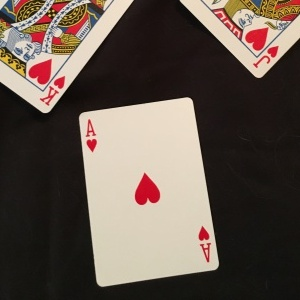card: (78, 96, 221, 286)
